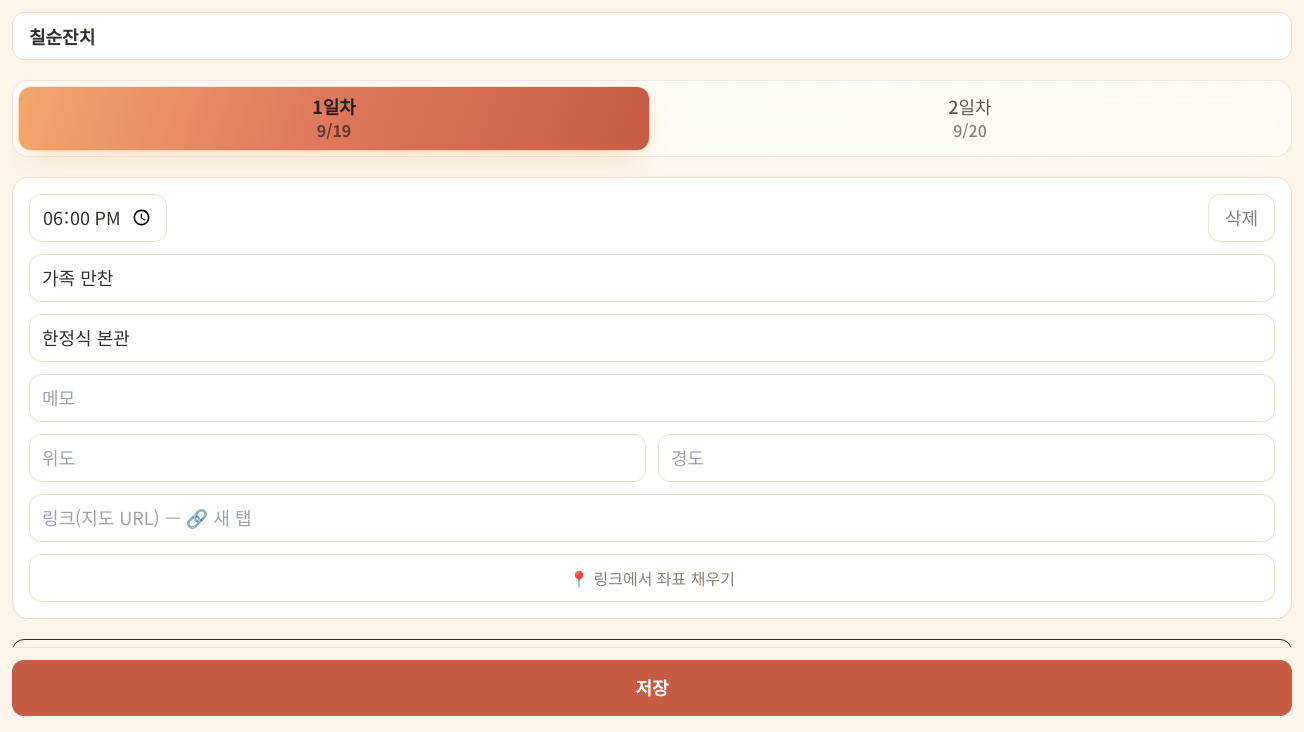
Test: AdminForm › "삭제" 는 확인 후 항목을 제거한다
Check: the number of fields named "제목" is 1, box top-left (29, 254), bottom-right (1275, 302)
What coordinates should you click on to do the following:
click the button "삭제"
I would click on:
 (1241, 218)
Its box is top-left (1208, 194), bottom-right (1275, 242).
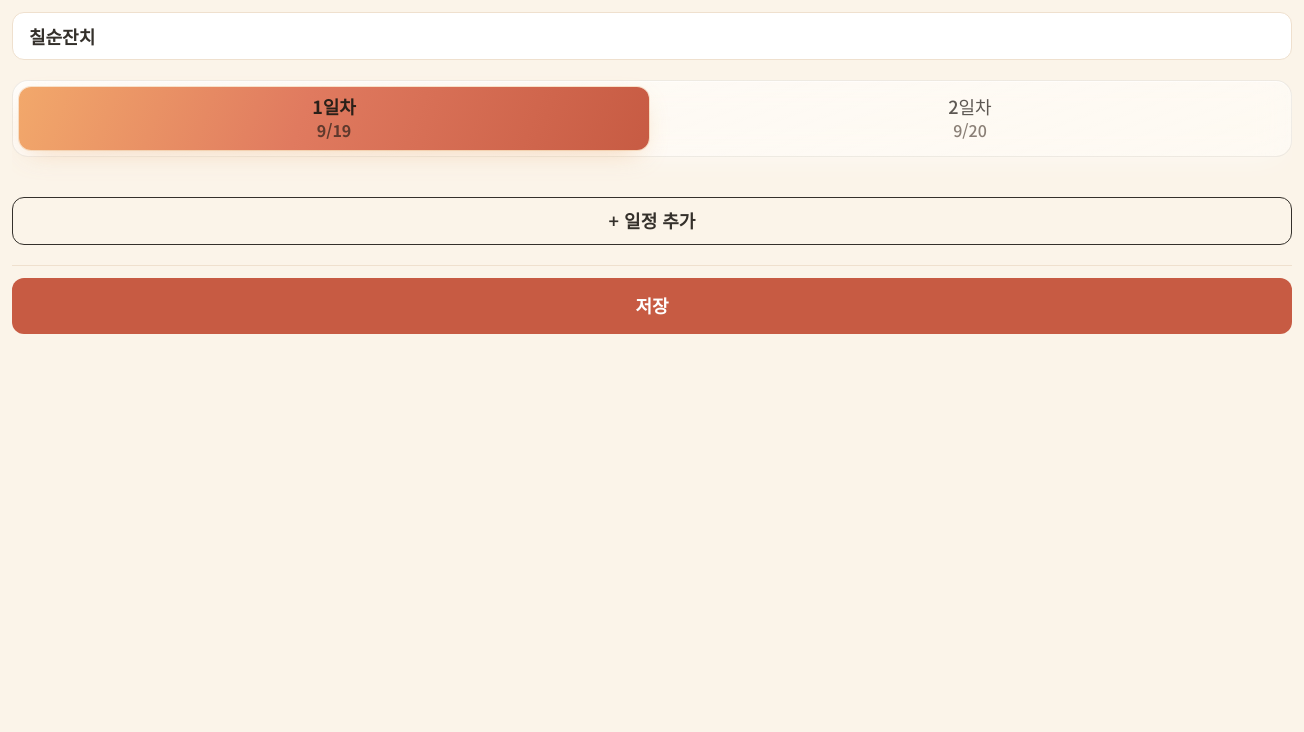
Check: the field labelled "제목" is gone
